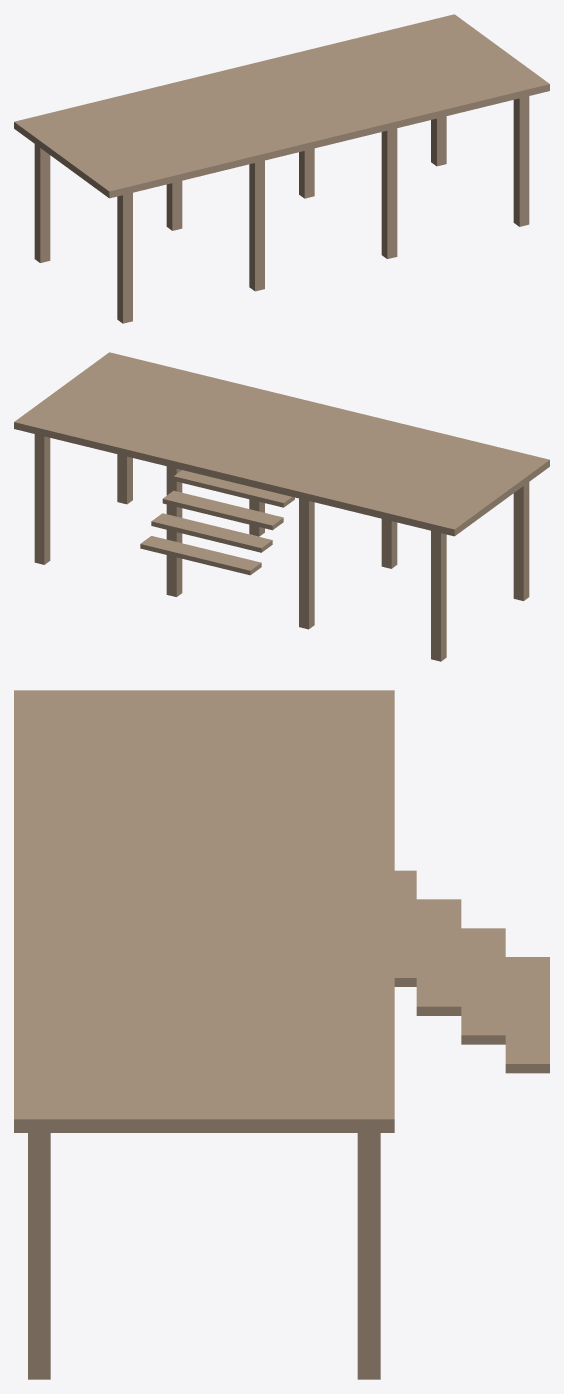
The model's file is scalo.glb.
The picture shows the model from 3 angles, top to bottom: view 1: azimuth 30°, elevation 25°; view 2: azimuth 150°, elevation 25°; view 3: azimuth 270°, elevation 25°; orthographic projection. The views are drawn at different scales.
Visible parts, largest first — view 1: scalo; view 2: scalo; view 3: scalo.
Boxes of the visible parts, box(x1,y1,x2,y2) form: scalo: box(14, 14, 549, 323); scalo: box(14, 352, 549, 661); scalo: box(14, 690, 549, 1379).
Size of the model in its own units: 8 by 2.41 by 4.23.
